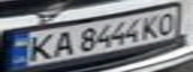4: (93, 21, 115, 50), (124, 16, 145, 43), (109, 19, 130, 46)
8: (75, 25, 100, 53)
A: (48, 29, 78, 57)
K: (21, 32, 60, 63), (136, 12, 163, 39)
O: (151, 9, 181, 35)
